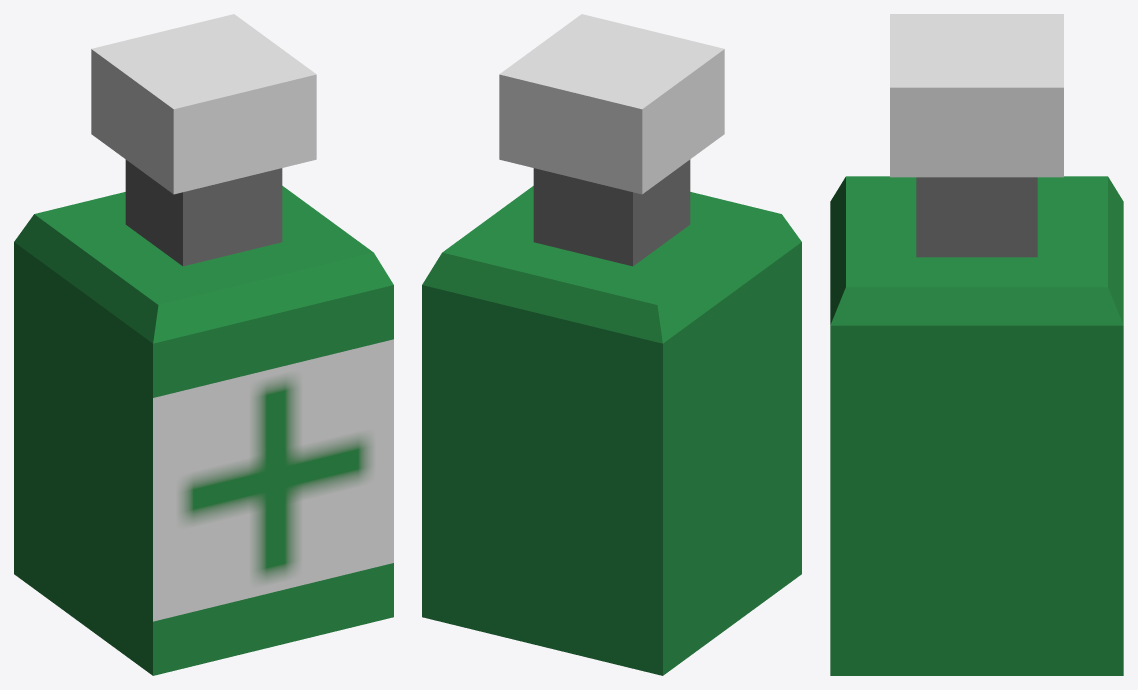
The model's file is PillBottle.fbx.
3 views of the same model, side by side, from view 1: azimuth 30°, elevation 25°; view 2: azimuth 150°, elevation 25°; view 3: azimuth 270°, elevation 25° (orthographic). The views are drawn at different scales.
Parts seen in each view (by area): view 1: PillBottle; view 2: PillBottle; view 3: PillBottle.
Part boxes in pixels (x1=…): PillBottle: x1=14, y1=14, x2=393, y2=675; PillBottle: x1=422, y1=14, x2=801, y2=675; PillBottle: x1=830, y1=14, x2=1123, y2=675.
Size of the model in its own units: 0.0874 by 0.1852 by 0.0874.
